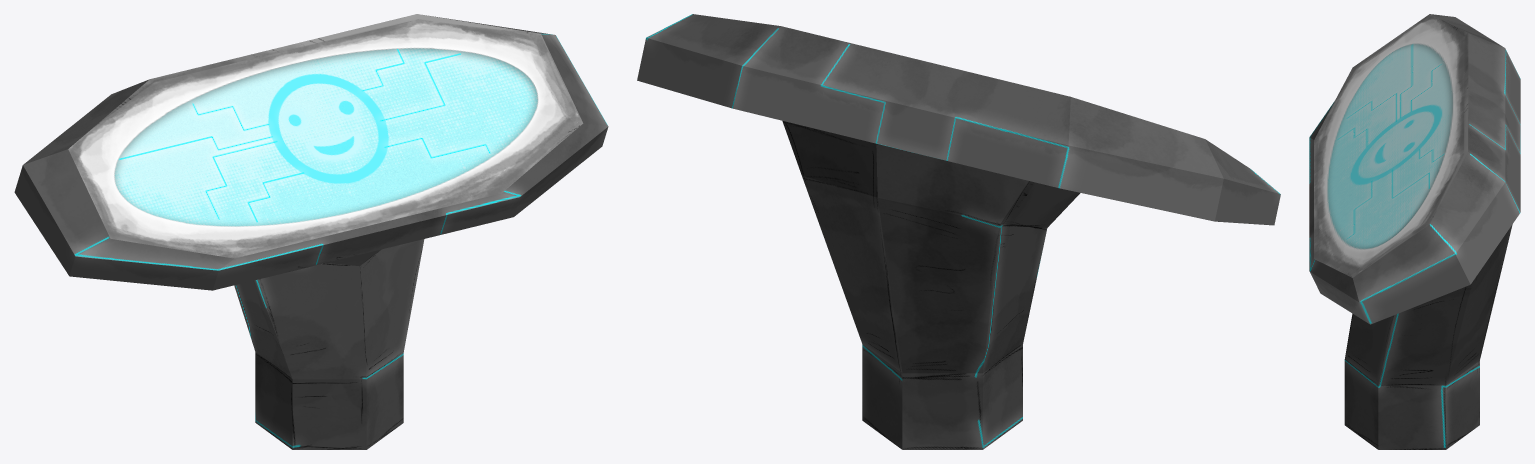
The model's file is board-techno-3.fbx.
The picture shows the model from 3 angles, left to right: view 1: azimuth 30°, elevation 25°; view 2: azimuth 150°, elevation 25°; view 3: azimuth 270°, elevation 25°; orthographic projection. The views are drawn at different scales.
Parts seen in each view (by area): view 1: board; view 2: board; view 3: board.
Boxes of the visible parts, x1,y1,x2,y2 form: board: (14,14,608,449); board: (637,14,1280,449); board: (1309,14,1520,449).
Bounding box in the file's own units: 830 × 532 × 312.
1 material, 1 textured.
